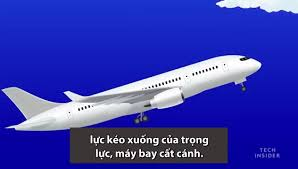maybay_dansu: (16, 55, 266, 129)
